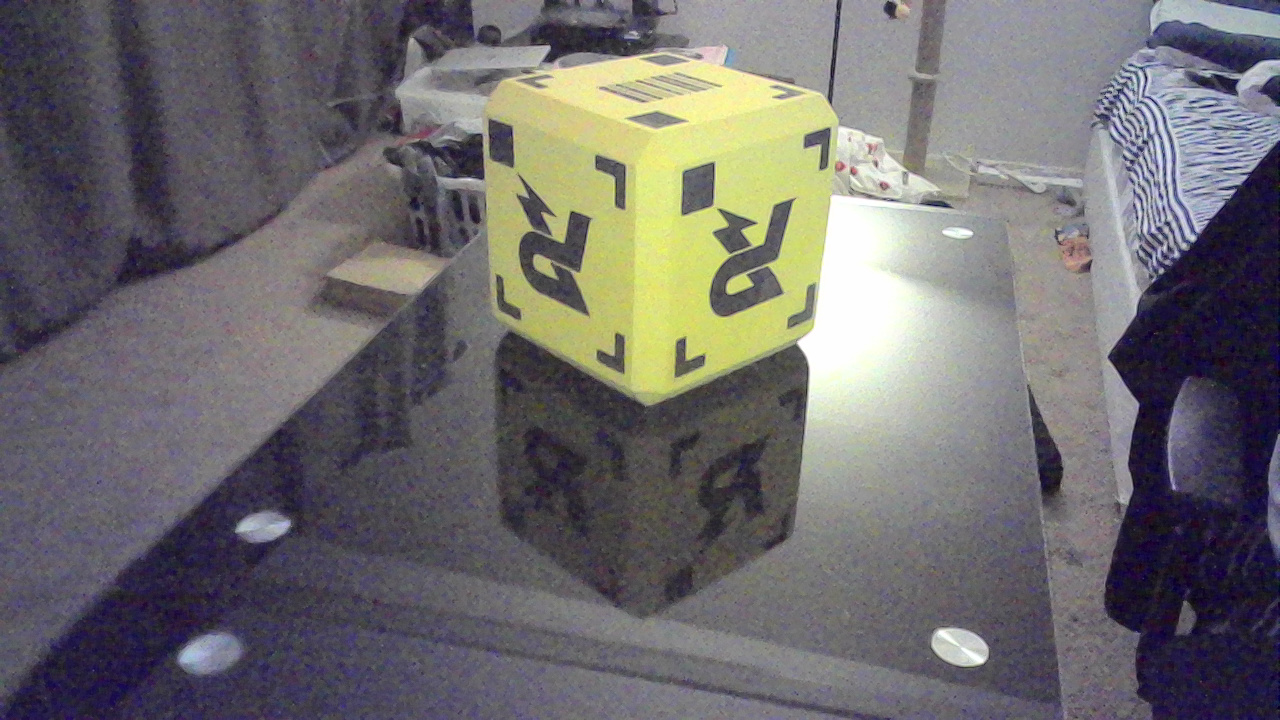Barcode: (611, 67, 733, 117)
R: (514, 183, 616, 311), (713, 207, 812, 321)
